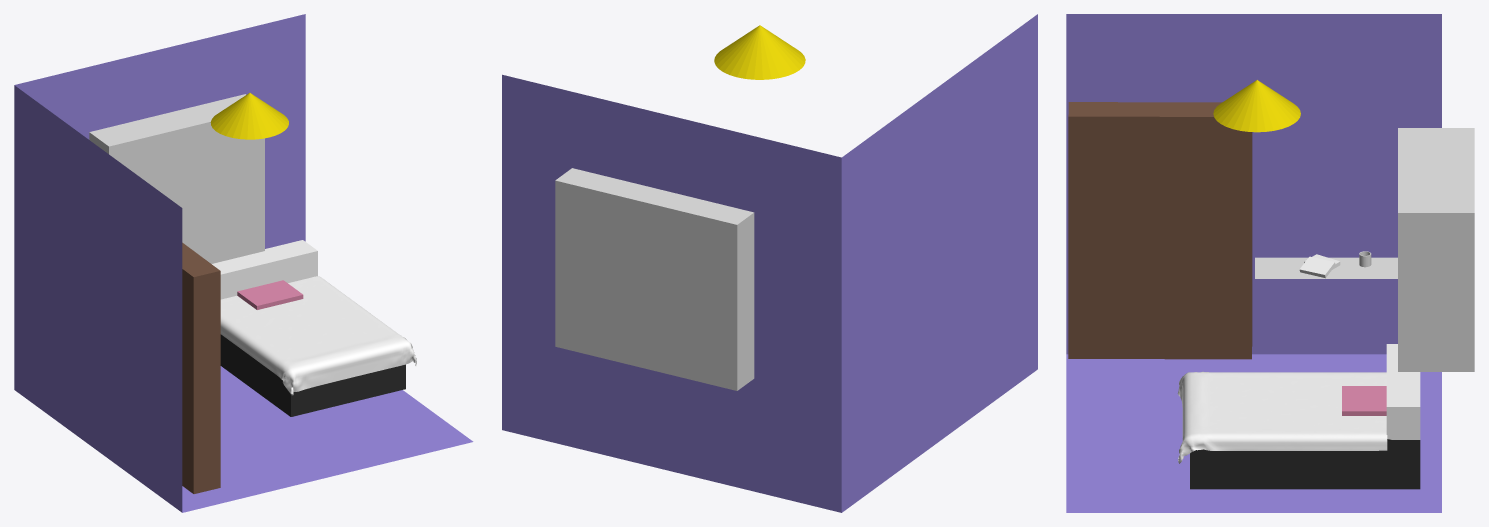
The model's file is Room.glb.
The picture shows the model from 3 angles, left to right: view 1: azimuth 30°, elevation 25°; view 2: azimuth 150°, elevation 25°; view 3: azimuth 270°, elevation 25°; orthographic projection. The views are drawn at different scales.
Visible parts, largest first — view 1: Cube, Cube.001, Plane, Cube.004, Cube.002, Cube.006, Cone, Cube.003; view 2: Cube, Cube.001, Cone; view 3: Cube, Cube.004, Cube.001, Plane, Cube.002, Cone, Cube.006, Cube.005, Cube.003, Cylinder.002.
Part boxes in pixels (box(x1,y1,x2,y2)): Cube: box(14, 14, 473, 512); Cube.001: box(89, 94, 264, 263); Plane: box(220, 276, 416, 395); Cube.004: box(182, 242, 220, 493); Cube.002: box(220, 334, 405, 416); Cube.006: box(212, 240, 317, 299); Cone: box(210, 93, 288, 139); Cube.003: box(237, 280, 303, 309); Cube: box(502, 14, 1037, 512); Cube.001: box(555, 168, 754, 390); Cone: box(714, 25, 805, 79); Cube: box(1066, 14, 1441, 512); Cube.004: box(1068, 102, 1252, 359); Cube.001: box(1398, 128, 1474, 371); Plane: box(1177, 371, 1387, 463); Cube.002: box(1190, 439, 1420, 489); Cone: box(1213, 80, 1300, 132); Cube.006: box(1386, 344, 1420, 439); Cube.005: box(1255, 257, 1397, 278); Cube.003: box(1342, 386, 1386, 415); Cylinder.002: box(1299, 256, 1335, 278).
Size of what is drawn, in the model's own units: 2 by 2.1 by 2.17.
